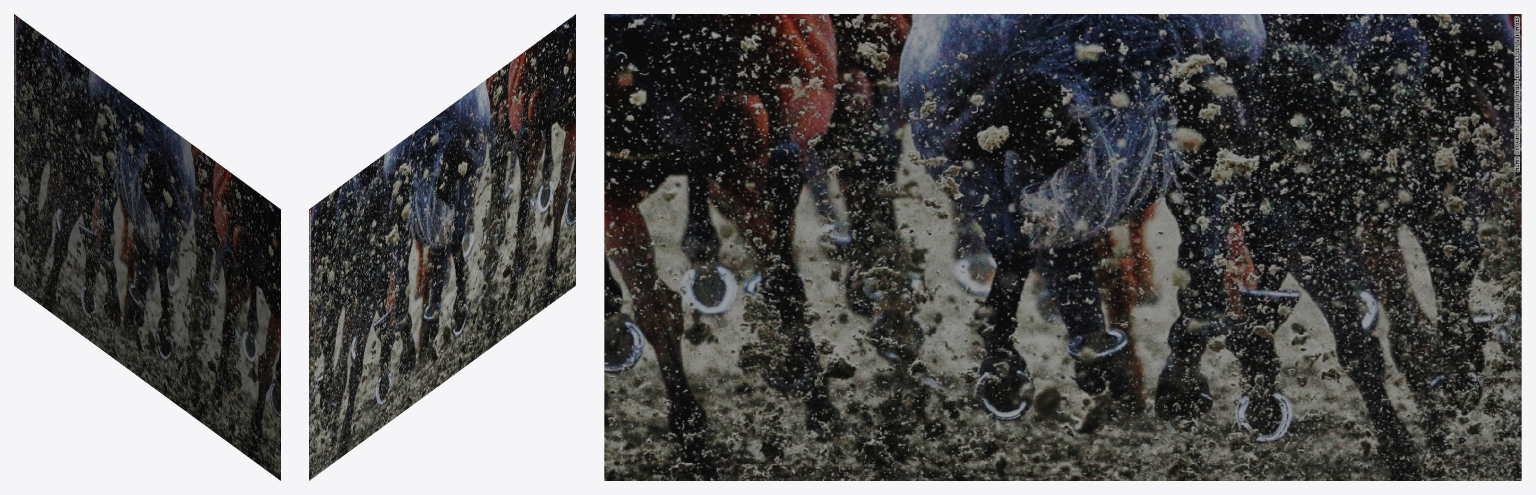
File: horses.obj
3 renders of one model, left to right at view 1: azimuth 30°, elevation 25°; view 2: azimuth 150°, elevation 25°; view 3: azimuth 270°, elevation 25°, orthographic. The views are drawn at different scales.
Visible parts, largest first — view 1: horses; view 2: horses; view 3: horses.
Part boxes in pixels (x1=…): horses: x1=14, y1=14, x2=280, y2=480; horses: x1=309, y1=14, x2=575, y2=480; horses: x1=604, y1=14, x2=1521, y2=480.
Size of the model in its own units: 2e-06 by 15.5 by 27.6.
1 material, 1 textured.
